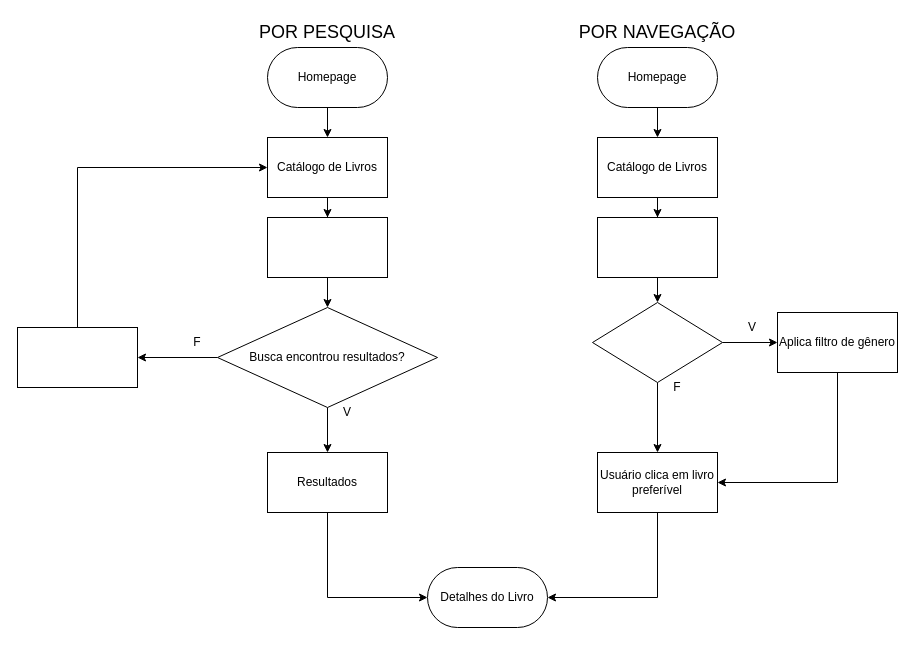
Some shapes in this 915 by 645 pixel diagram are drawn without their labels. The shapes that lost their labels are listed below. From the top down, each one's centre as x and y in pixels, then its label:
At (x=327, y=247): "Pesquisa do Livro".
At (x=657, y=247): "Usuário rola a página, visualizando a lista".
At (x=77, y=357): "Não Existente ou Publicado.".
At (x=657, y=342): "Usuário aplica filtro?".
